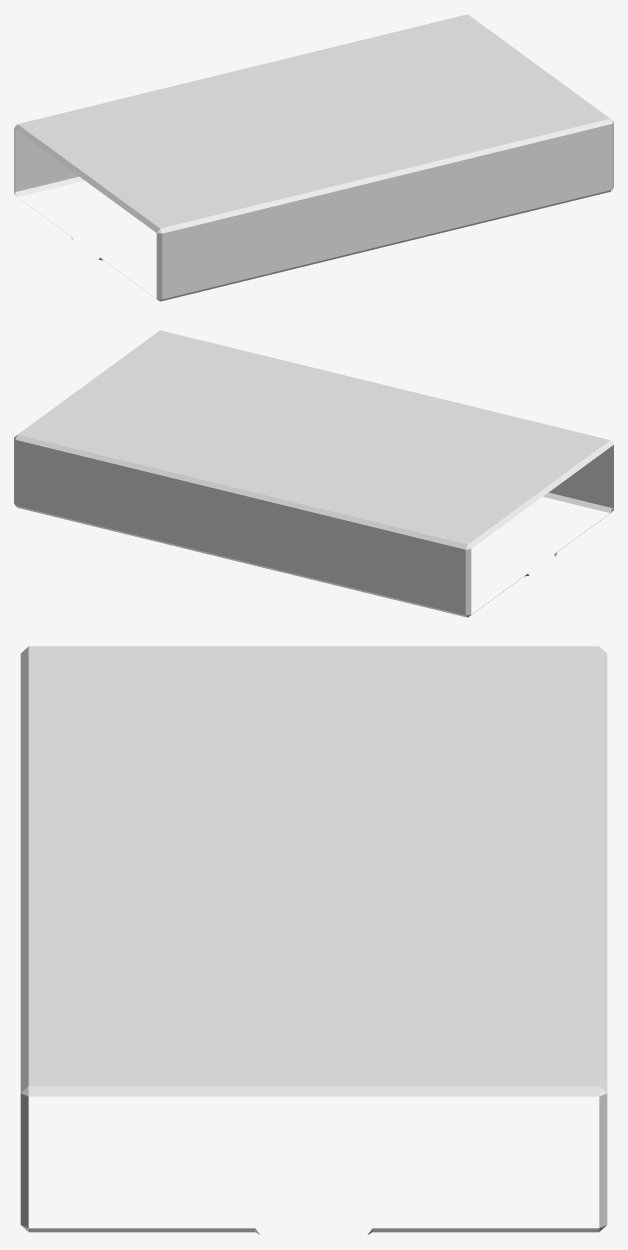
File: Commons_Walls.fbx
3 views of the same model, one above another, from view 1: azimuth 30°, elevation 25°; view 2: azimuth 150°, elevation 25°; view 3: azimuth 270°, elevation 25° (orthographic). The views are drawn at different scales.
Parts seen in each view (by area): view 1: Commons_Walls; view 2: Commons_Walls; view 3: Commons_Walls.
Boxes of the visible parts, box(x1,y1,x2,y2) form: Commons_Walls: box(14, 14, 613, 301); Commons_Walls: box(14, 330, 613, 617); Commons_Walls: box(20, 646, 607, 1234).
Bounding box in the file's own units: 7199 × 1100 × 4000.
